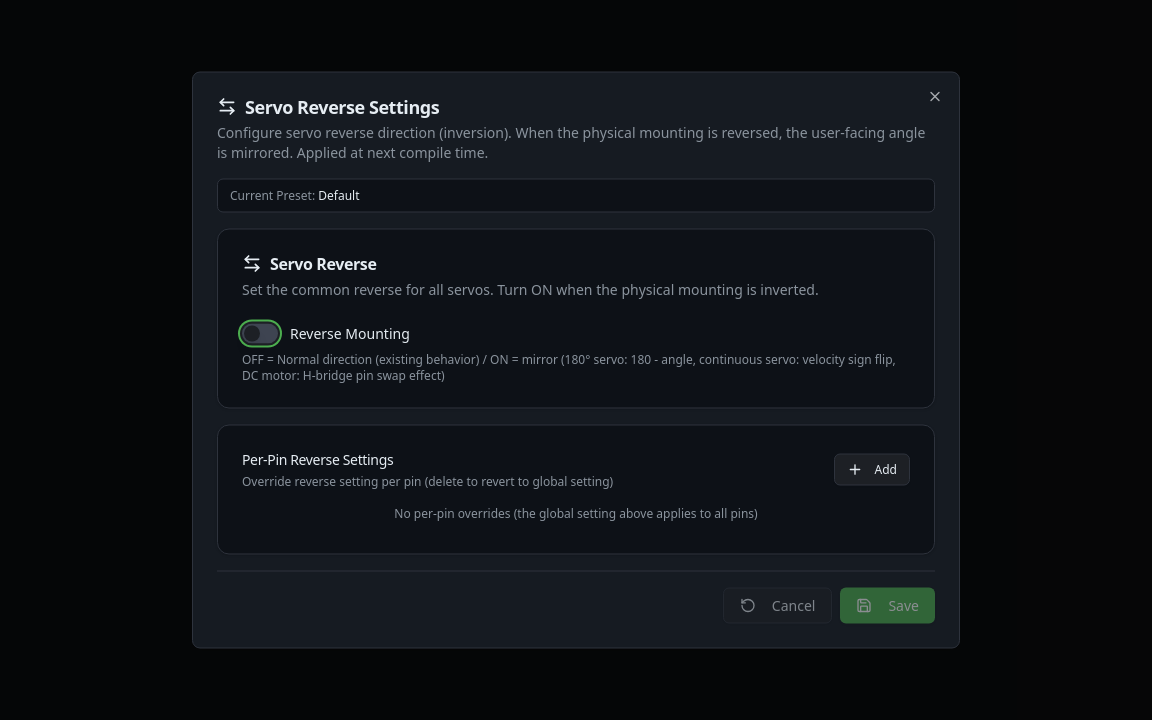
ServoReverseDialog Session 156: reverse 専用 pinPresetStore 直書き › cancel button restores edited state (= localState reset to current store)
edit (global reverse toggle on)
Click the switch: point(260, 334) top-left (242, 324), bottom-right (278, 344)
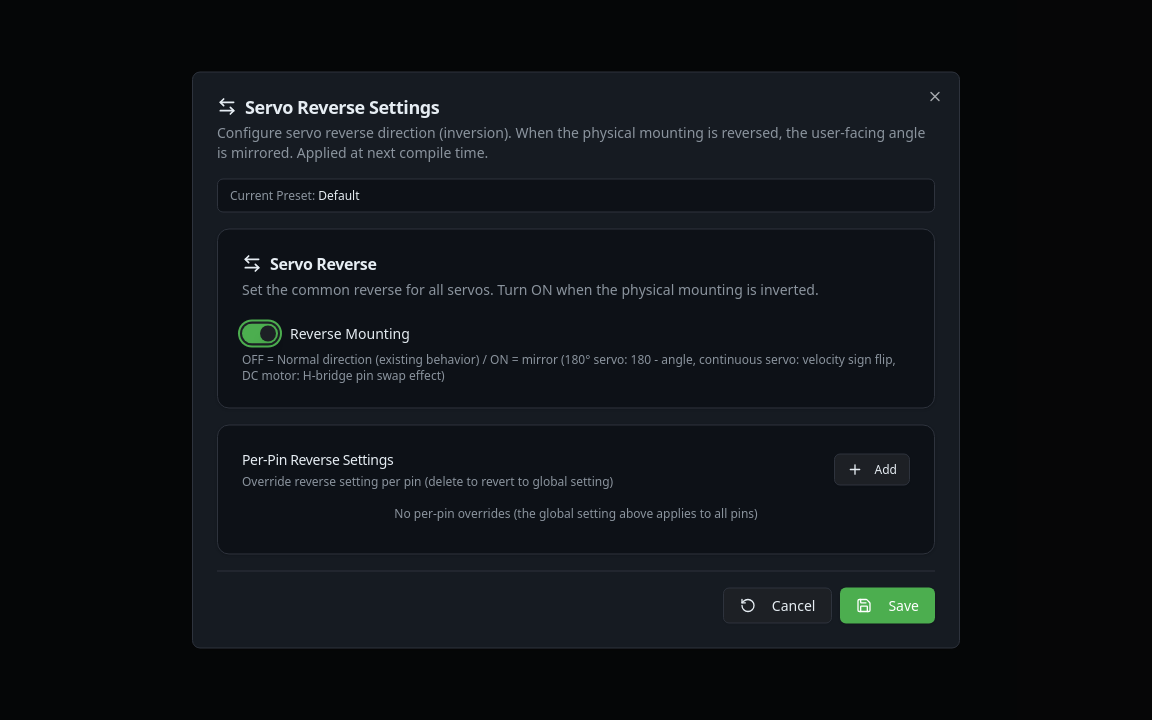
Check: the button "Cancel" is enabled
Click the button "Cancel": point(778, 606) top-left (723, 588), bottom-right (832, 624)
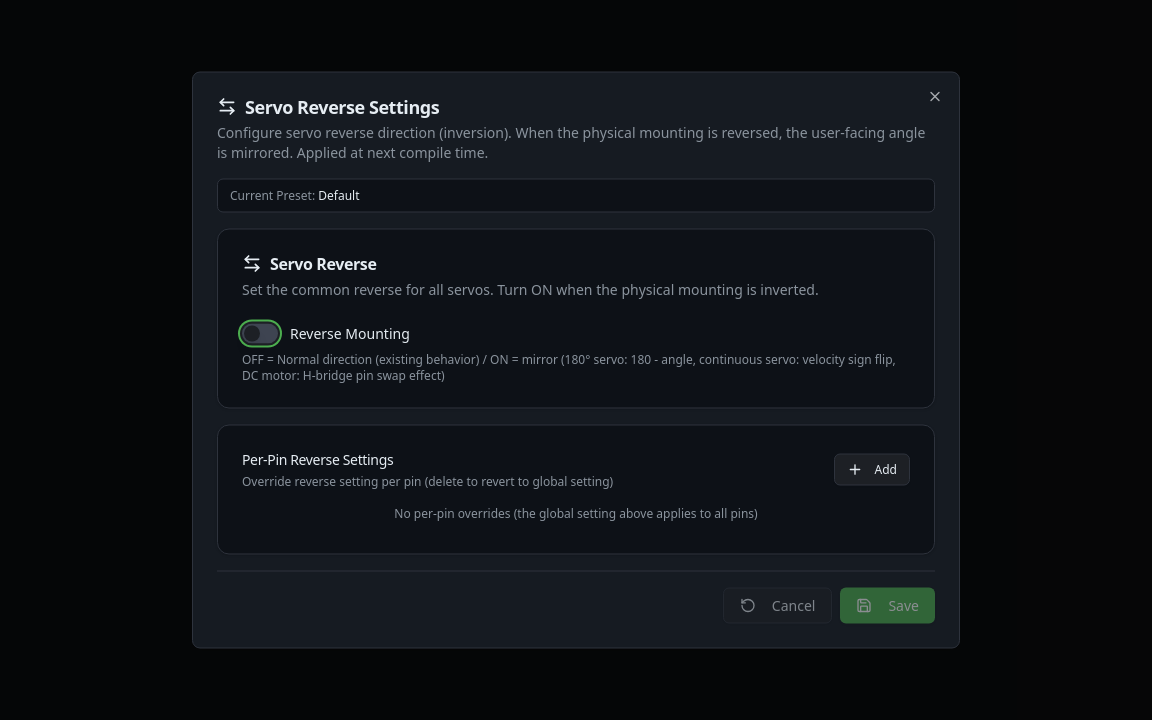
Check: the button "Cancel" is disabled, box top-left (723, 588), bottom-right (832, 624)
